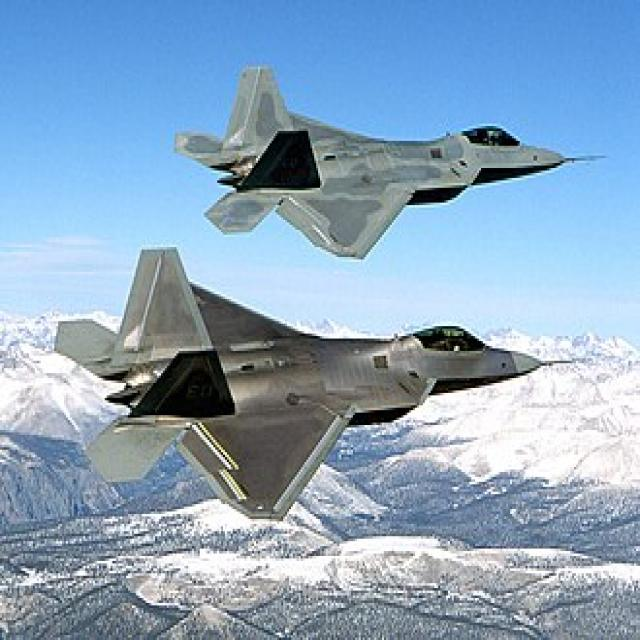F22: (50, 245, 586, 509), (173, 59, 607, 264)
